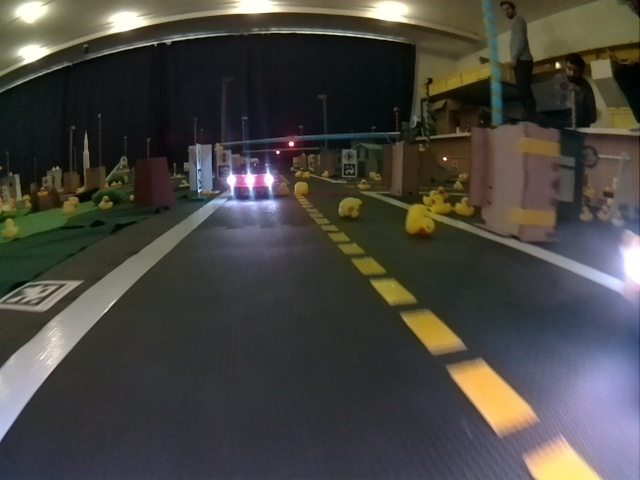Duckie: (407, 205, 434, 234), (339, 198, 362, 218), (4, 218, 20, 238), (432, 197, 450, 213), (457, 199, 472, 216), (295, 182, 309, 196), (424, 191, 439, 204), (579, 210, 593, 221), (100, 197, 112, 209), (276, 184, 288, 195), (436, 187, 448, 198), (359, 179, 369, 189), (374, 173, 383, 182)
Duckiebot: (230, 167, 273, 196)
Intersection sign: (343, 150, 355, 162)
QR code: (3, 279, 79, 311), (344, 165, 355, 175)
Traffic light: (275, 149, 283, 156)
